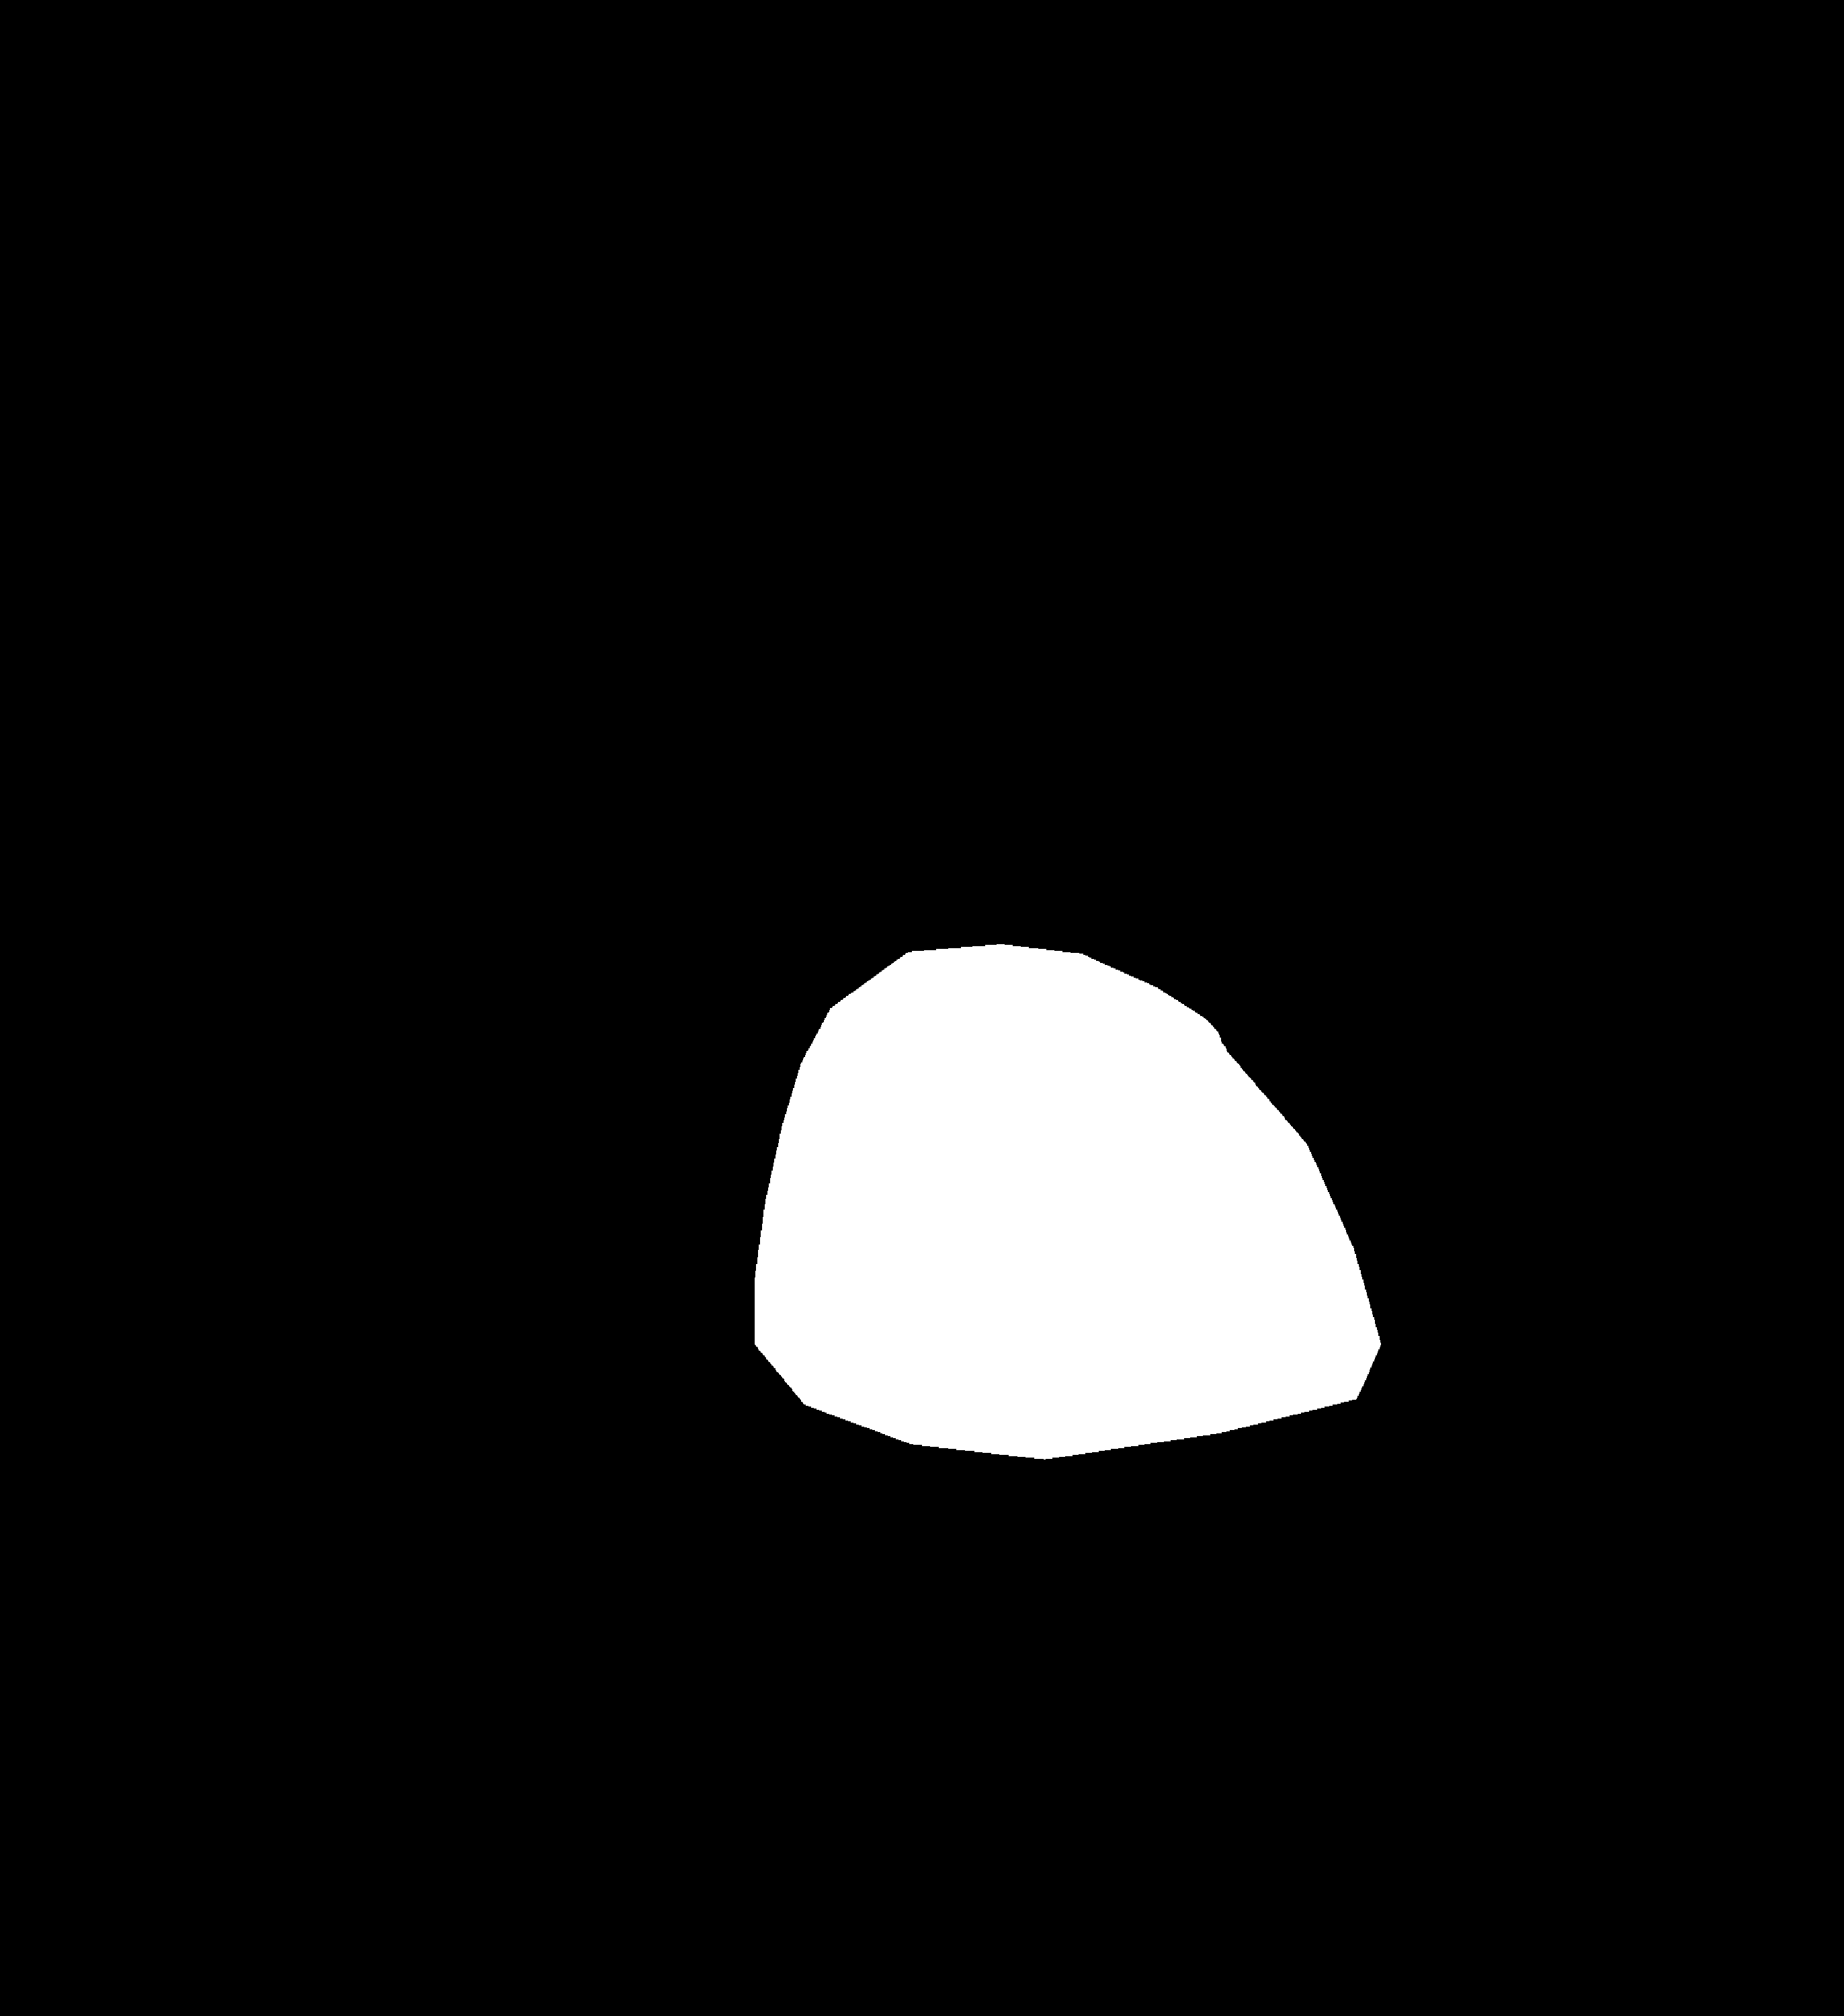heart: (760, 994, 1426, 1519)
left_lung: (300, 276, 913, 1568)
right_lung: (1022, 292, 1621, 1551)
